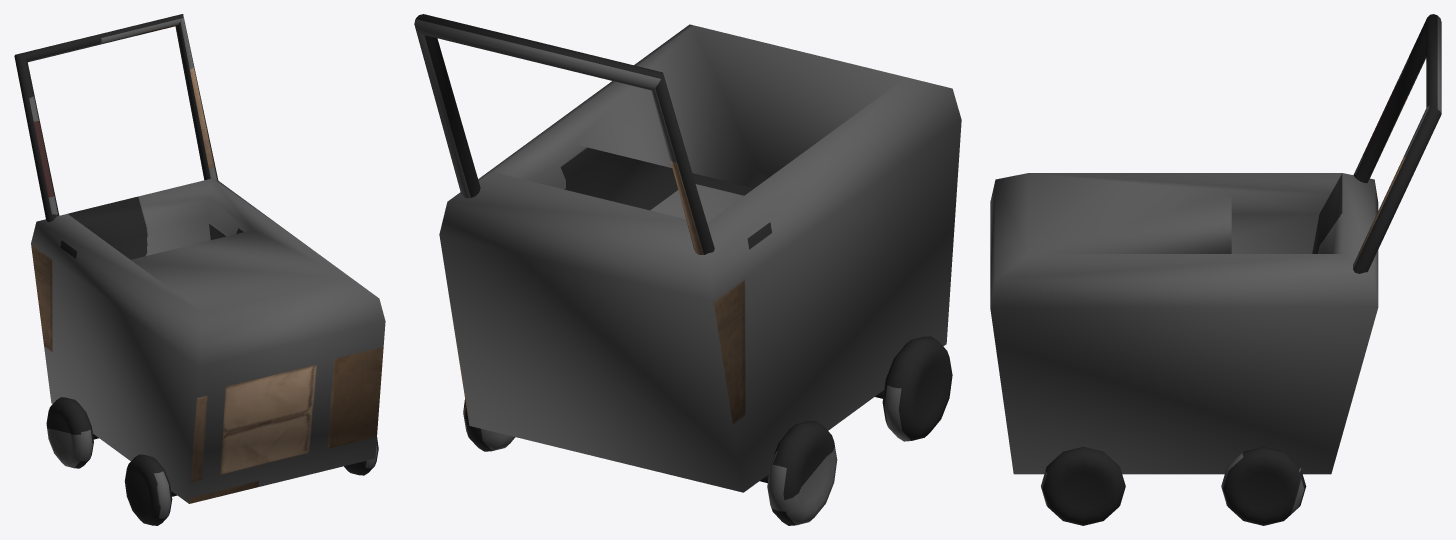
File: trolley.fbx
The picture shows the model from 3 angles, left to right: view 1: azimuth 30°, elevation 25°; view 2: azimuth 150°, elevation 25°; view 3: azimuth 270°, elevation 25°; orthographic projection. The views are drawn at different scales.
Parts seen in each view (by area): view 1: cart; view 2: cart; view 3: cart.
Part boxes in pixels (x1,y1,x2,y2): cart: [14, 14, 385, 525]; cart: [414, 14, 961, 525]; cart: [990, 14, 1441, 525].
Size of the model in its own units: 0.5952 by 0.3986 by 0.599.
